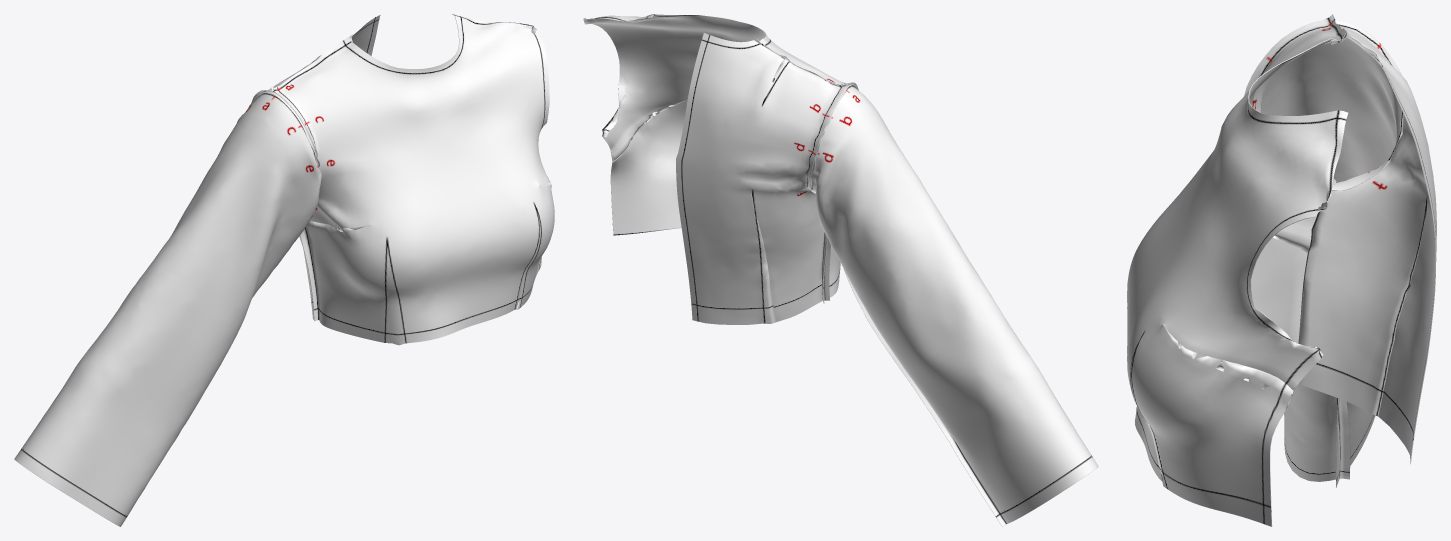
File: setp4_09.fbx
3 renders of one model, left to right at view 1: azimuth 30°, elevation 25°; view 2: azimuth 150°, elevation 25°; view 3: azimuth 270°, elevation 25°, orthographic. The views are drawn at different scales.
Parts seen in each view (by area): view 1: fenghexiu_10:Pattern2D_128431, fenghexiu_10:Pattern2D_219457, fenghexiu_10:Pattern2D_24583; view 2: fenghexiu_10:Pattern2D_219457, fenghexiu_10:Pattern2D_24583, fenghexiu_10:Pattern2D_128431; view 3: fenghexiu_10:Pattern2D_128431, fenghexiu_10:Pattern2D_24583, fenghexiu_10:Pattern2D_219457.
Part boxes in pixels (bbox=[...]): fenghexiu_10:Pattern2D_128431: bbox=[273, 14, 554, 345]; fenghexiu_10:Pattern2D_219457: bbox=[14, 91, 321, 526]; fenghexiu_10:Pattern2D_24583: bbox=[251, 14, 380, 319]; fenghexiu_10:Pattern2D_219457: bbox=[810, 84, 1098, 526]; fenghexiu_10:Pattern2D_24583: bbox=[676, 33, 847, 324]; fenghexiu_10:Pattern2D_128431: bbox=[583, 14, 857, 300]; fenghexiu_10:Pattern2D_128431: bbox=[1127, 16, 1348, 526]; fenghexiu_10:Pattern2D_24583: bbox=[1298, 14, 1436, 464]; fenghexiu_10:Pattern2D_219457: bbox=[1252, 37, 1403, 487].
Size of the model in its own units: 66.87 by 53.44 by 23.68.
